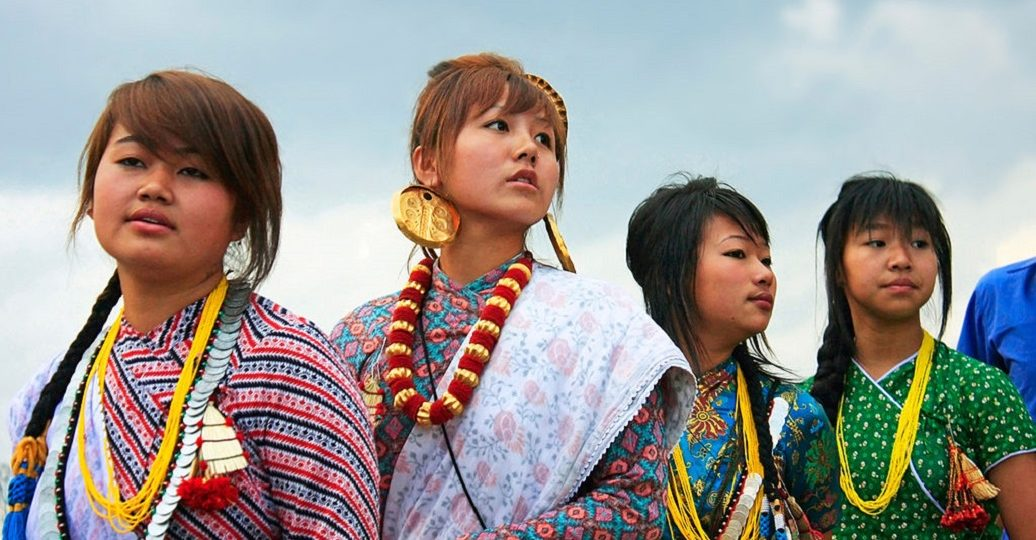human: (322, 52, 703, 540), (1, 66, 392, 540), (780, 170, 1036, 540), (619, 166, 844, 540)
